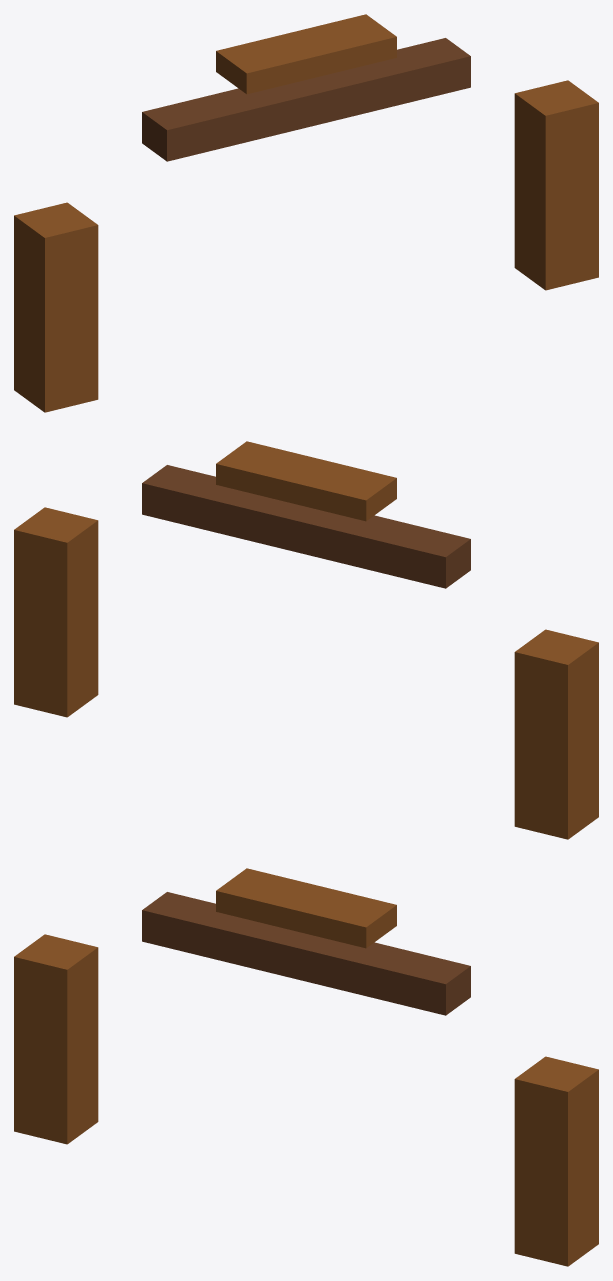
File: gate_wood.glb
3 renders of one model, top to bottom at view 1: azimuth 30°, elevation 25°; view 2: azimuth 150°, elevation 25°; view 3: azimuth 330°, elevation 25°, orthographic.
Parts seen in each view (by area): view 1: Cube; view 2: Cube; view 3: Cube.
Part boxes in pixels (x1=…): Cube: x1=14, y1=14, x2=598, y2=412; Cube: x1=14, y1=441, x2=598, y2=839; Cube: x1=14, y1=868, x2=598, y2=1266.
Bounding box in the file's own units: 2.82 × 1.41 × 0.272.
